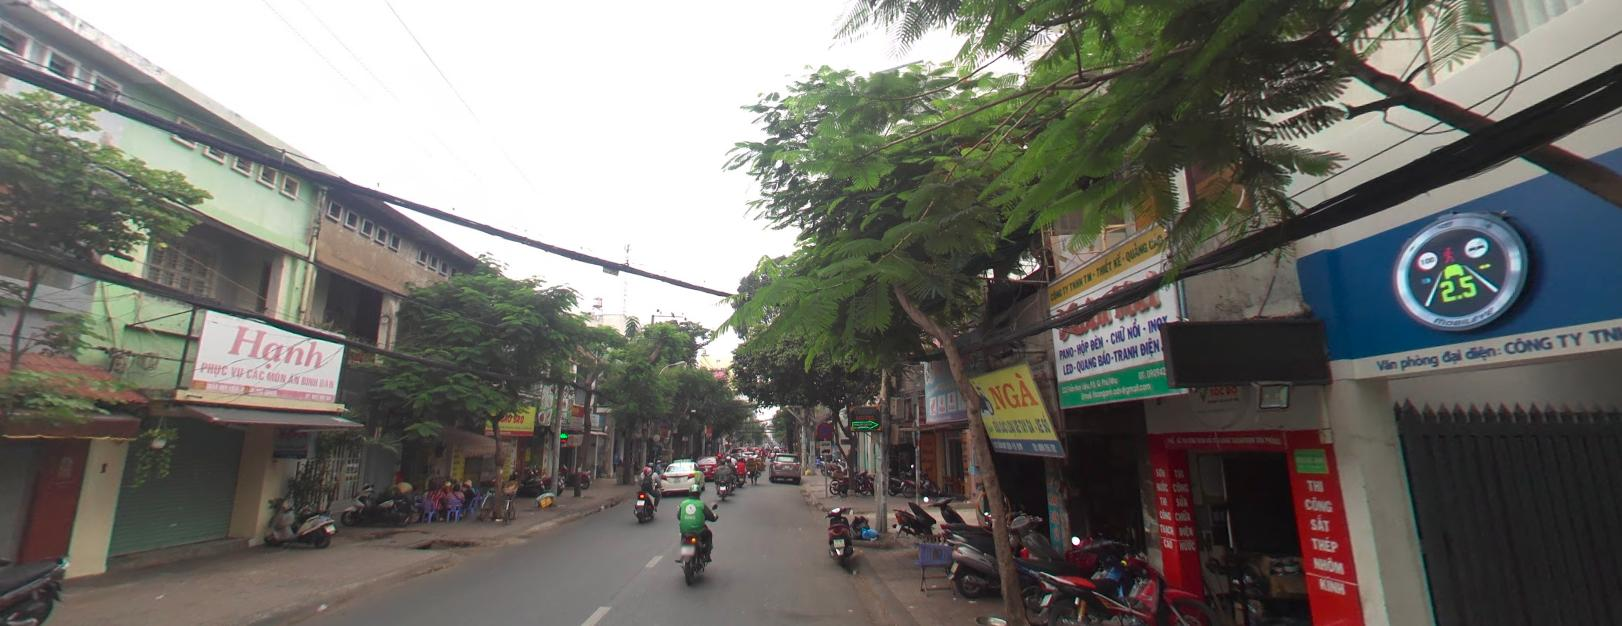Cam dung va do: (817, 420, 834, 437)
